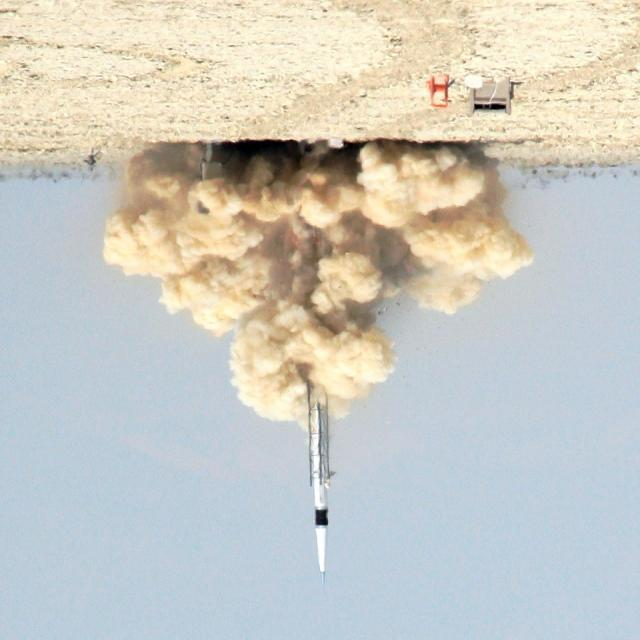missile: (311, 410, 330, 588)
